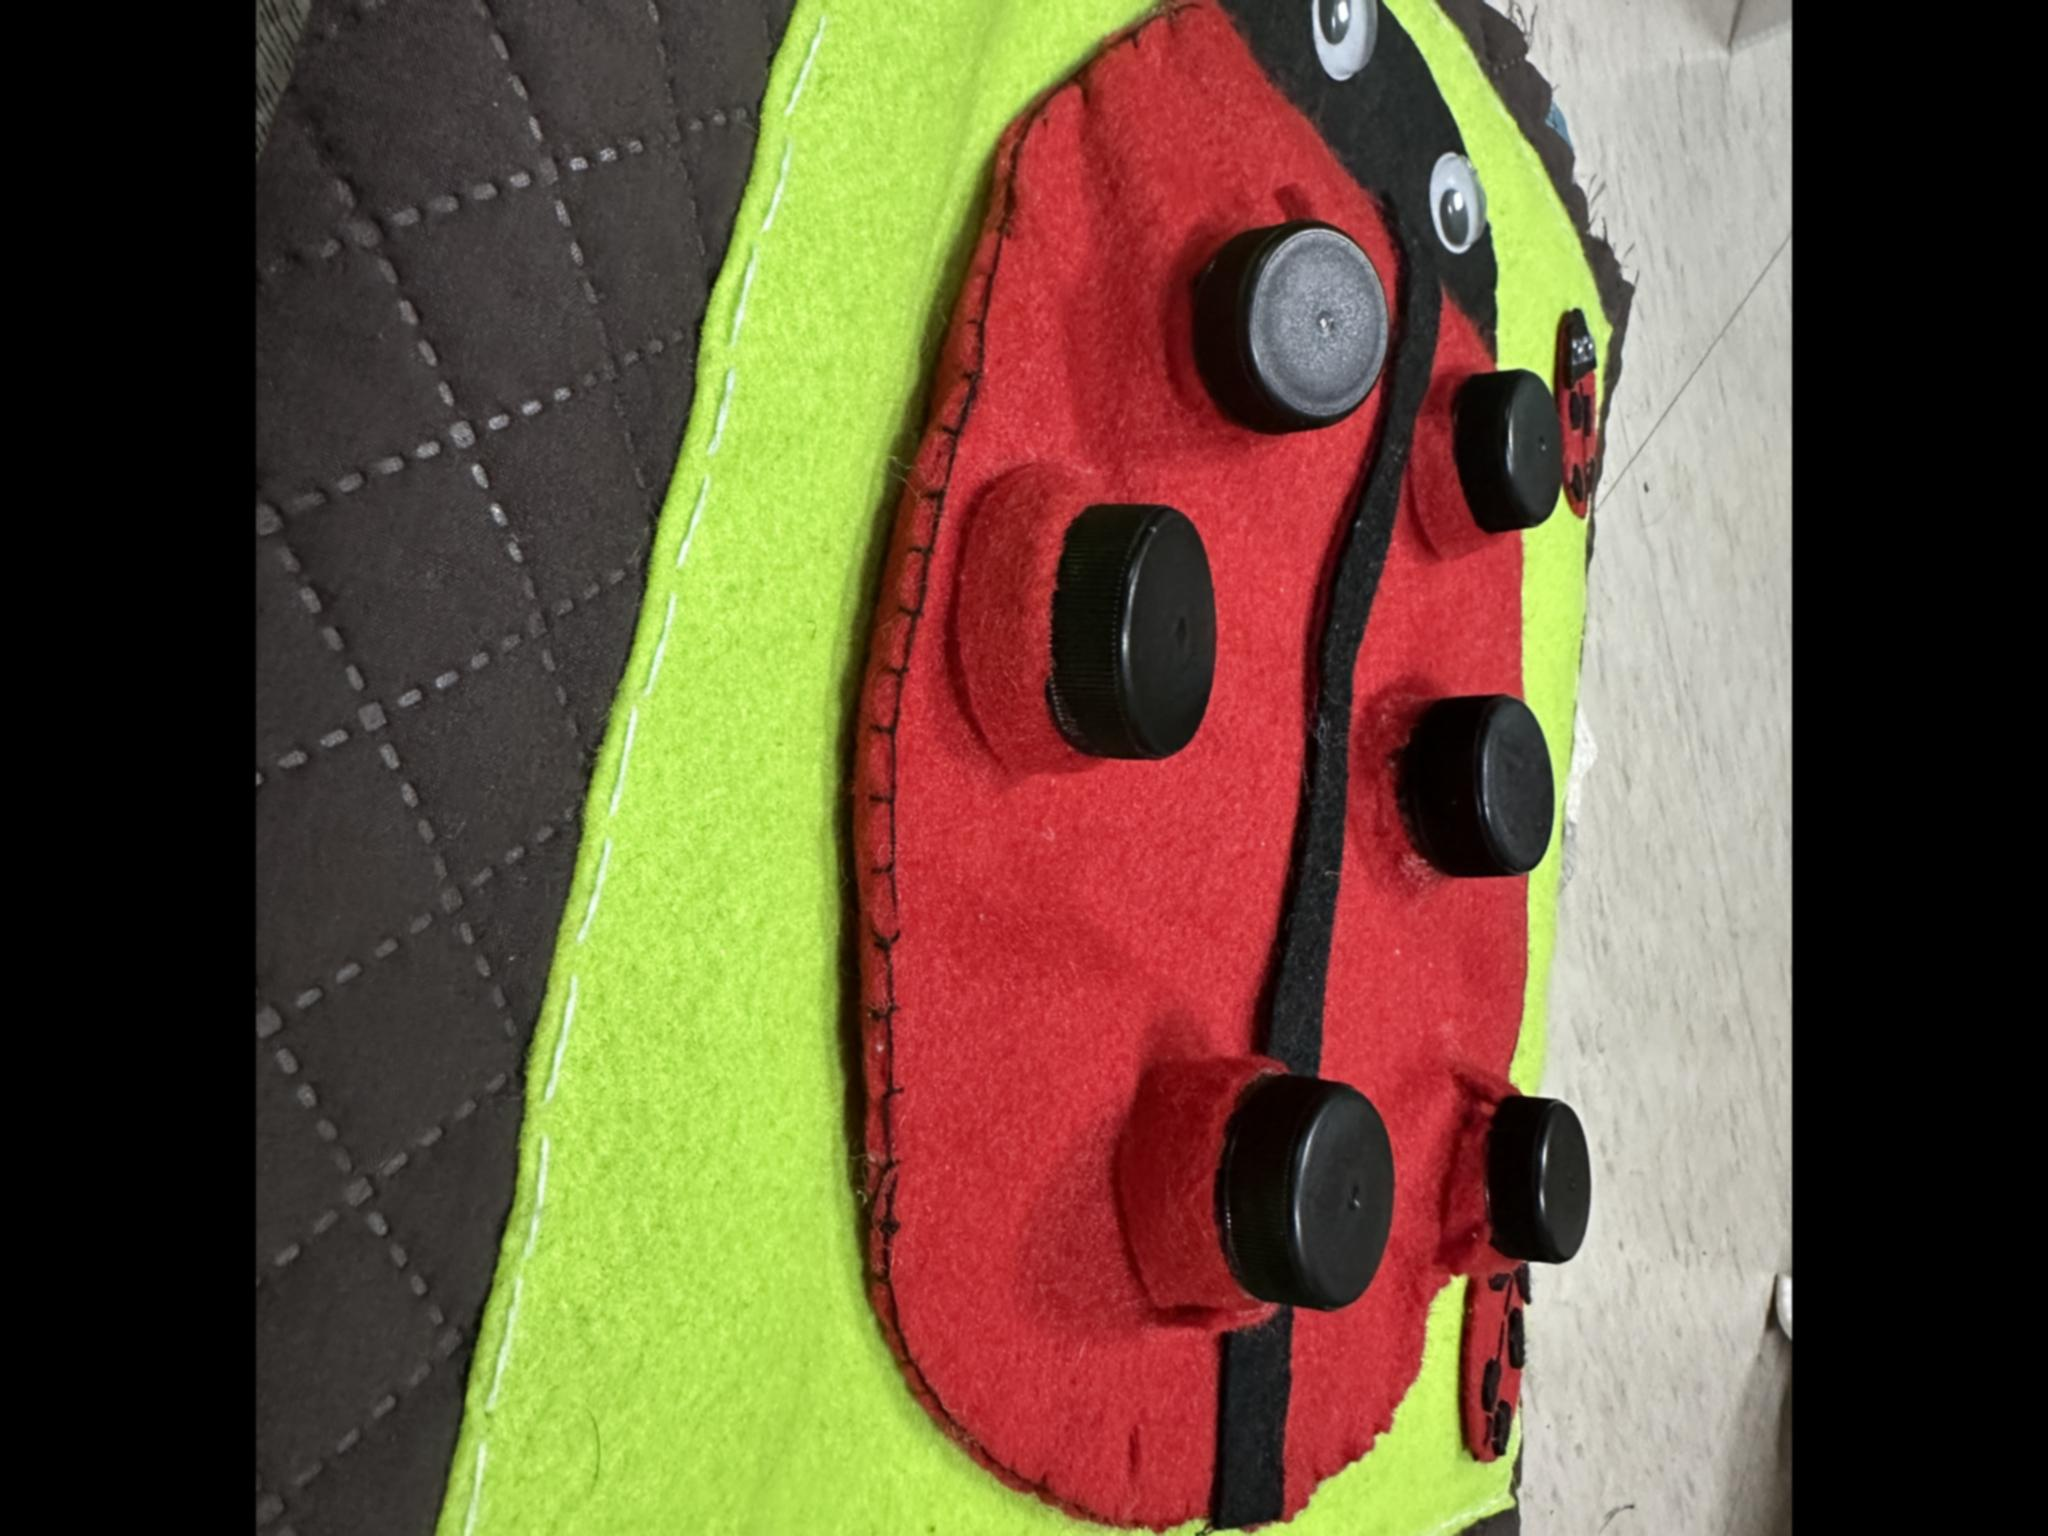cap_ok: (940, 473, 1227, 808), (1106, 1052, 1408, 1341), (1169, 203, 1406, 450), (1363, 653, 1577, 912), (1385, 360, 1576, 574), (1429, 1083, 1598, 1294)
